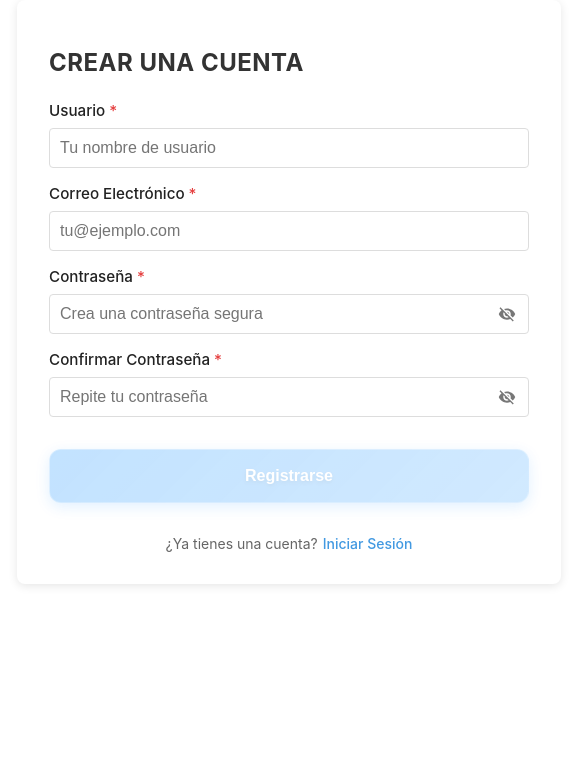
Test: SignUpForm - pruebas negativas y comportamiento del envío › muestra error por contraseñas diferentes y evita el envío
Type "Alice" into the field labelled "Usuario*" at (289, 148), box [49,128,529,168]
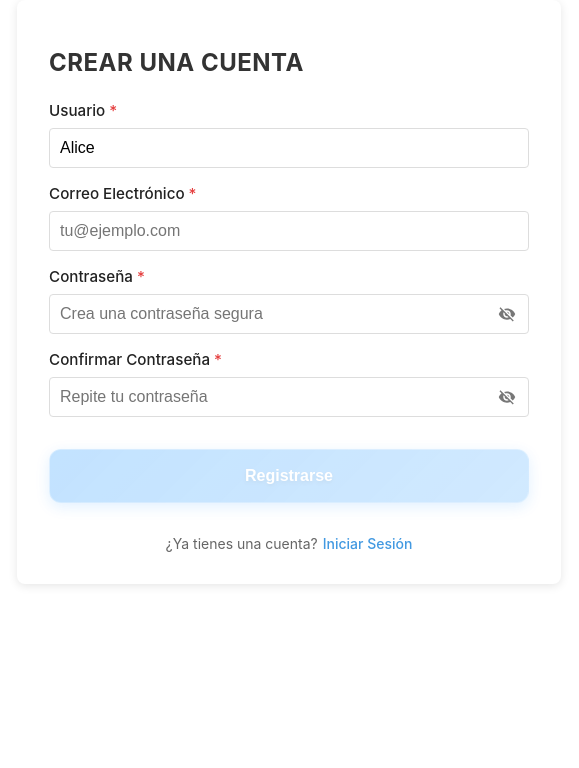
Type "a@b.com" into the field labelled "Correo Electrónico*" at (289, 231), box [49,211,529,251]
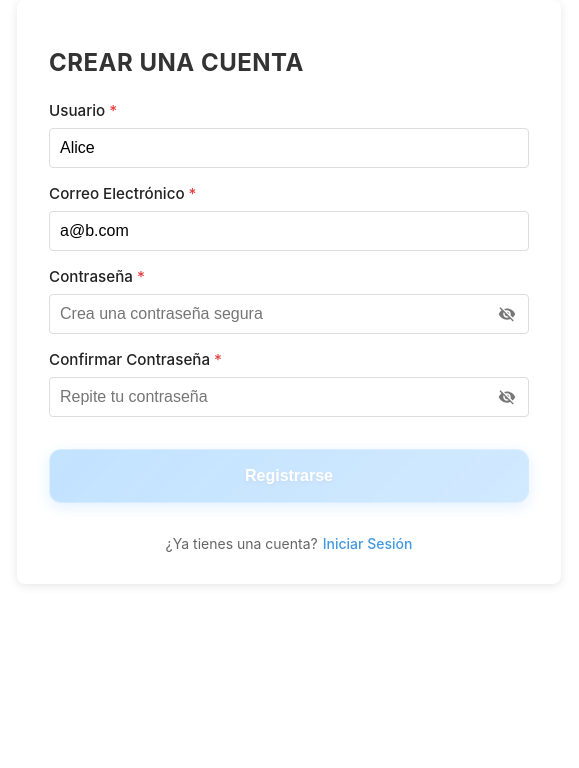
Type "ValidPass1!" into the password field with placeholder "Crea una contraseña segura" at (289, 314), box [49,294,529,334]
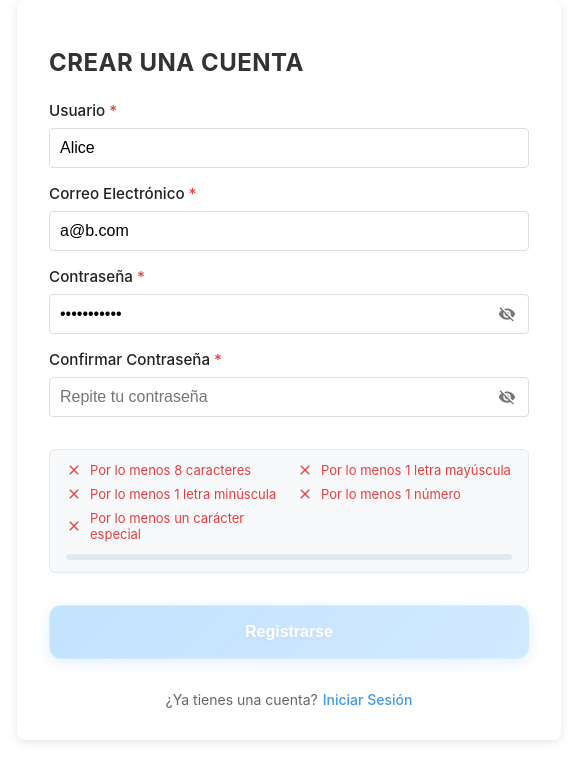
Type "Different1!" into the password field with placeholder "Repite tu contraseña" at (289, 397), box [49,377,529,417]
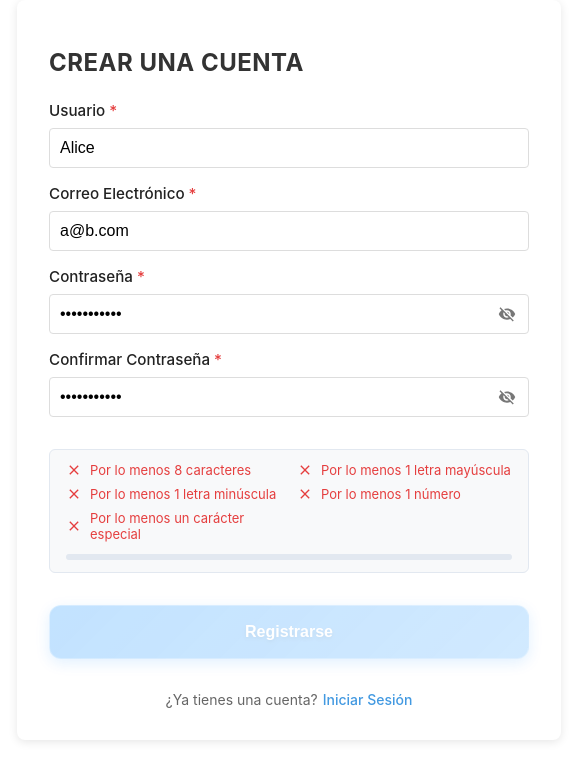
Submit the form
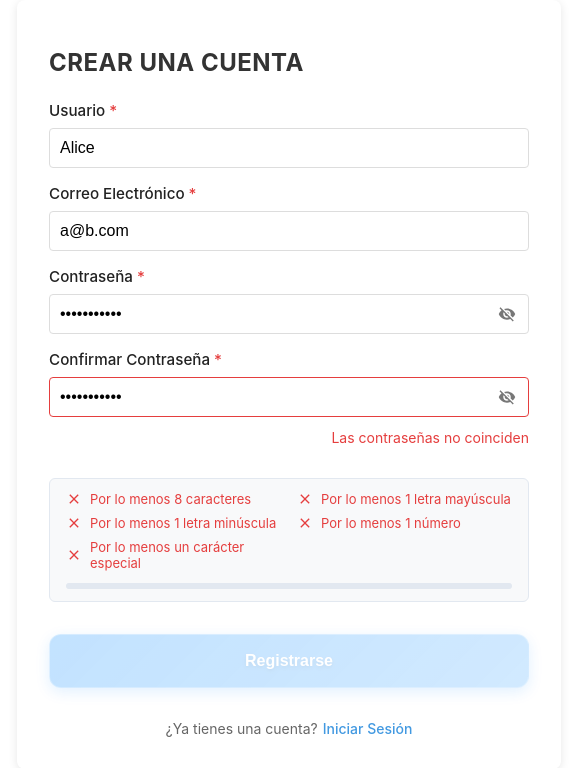
Check: the text "Las contraseñas no coinciden" is shown, box [332,429,529,446]
